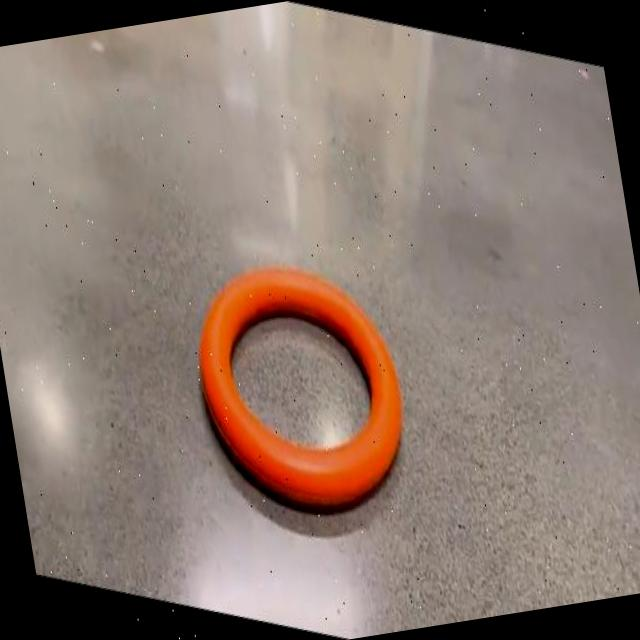note: (200, 266, 402, 504)
